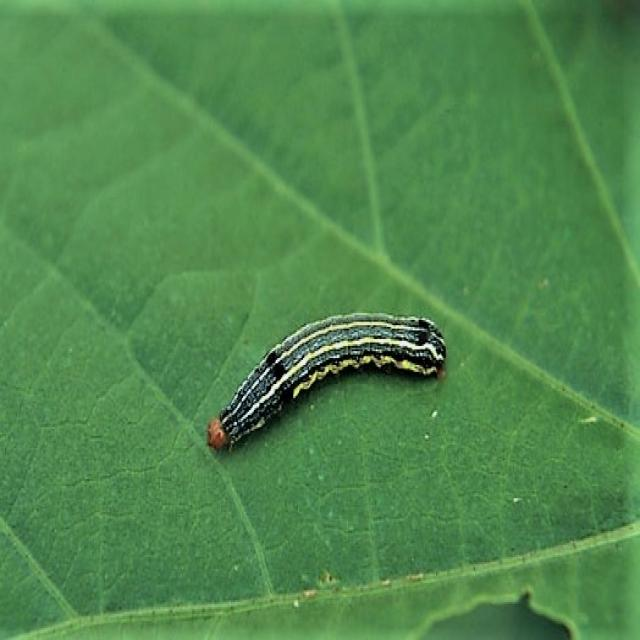armyworm: (205, 310, 447, 453)
